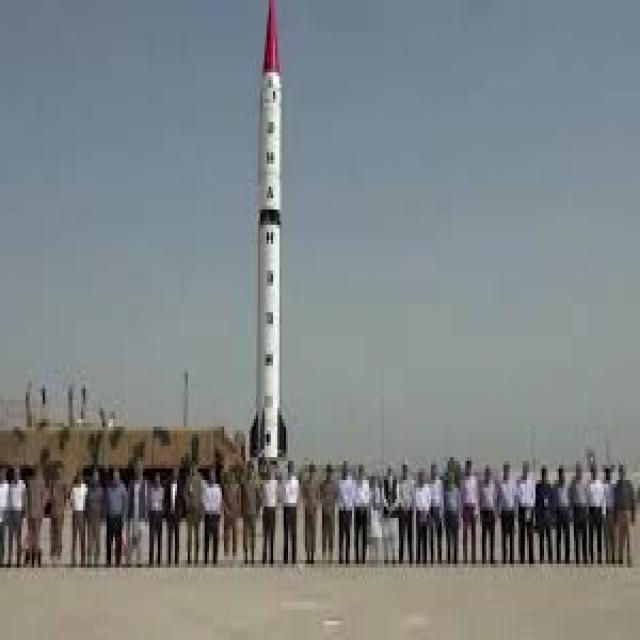Missile: (248, 0, 287, 452)
